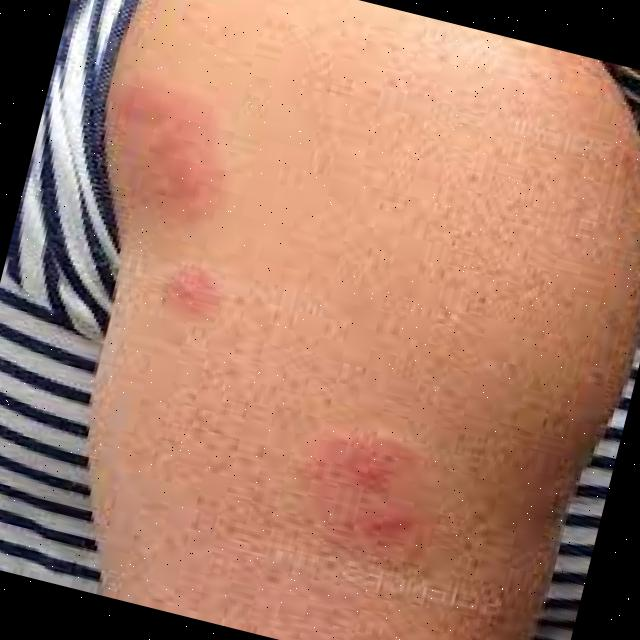kan emici bocekler: (275, 421, 456, 573), (136, 80, 246, 228), (140, 242, 245, 331)
